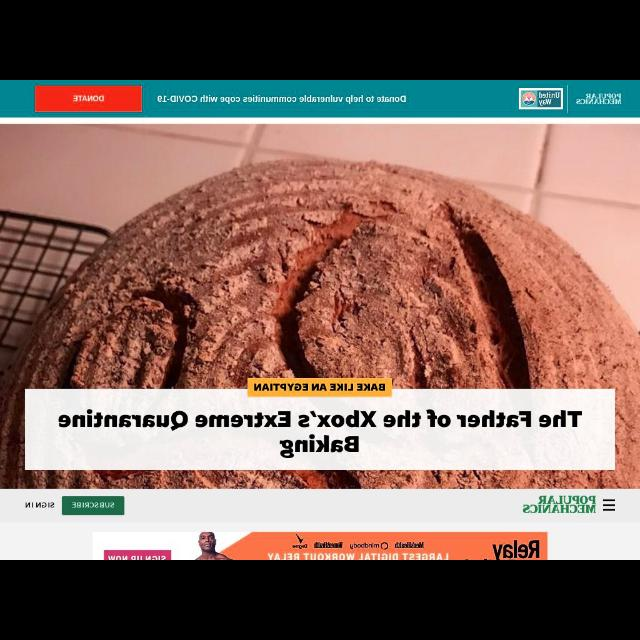backgroundimage: (0, 124, 638, 488)
icon: (602, 499, 616, 513)
iframe: (90, 532, 548, 558)
image: (522, 496, 596, 514), (518, 88, 562, 109), (574, 92, 622, 106)
text: (57, 410, 583, 458), (157, 96, 407, 106), (254, 382, 386, 391), (73, 95, 104, 104), (23, 502, 54, 511), (72, 502, 116, 508)
textbutton: (36, 86, 142, 110), (63, 496, 124, 516)
